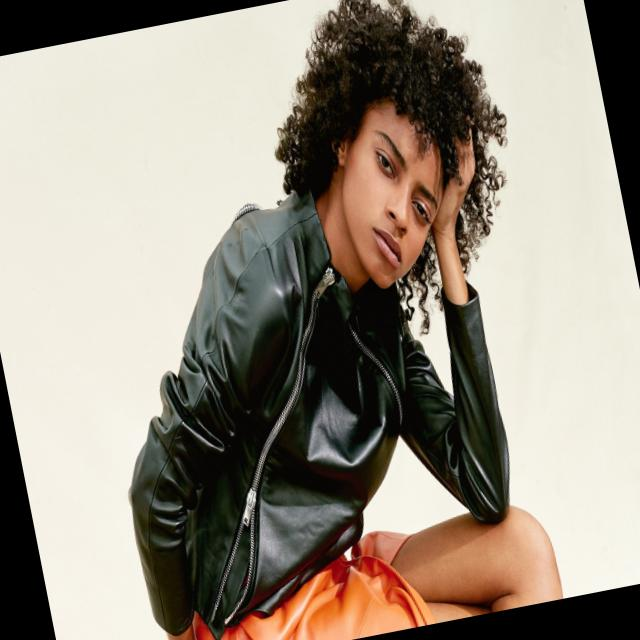Jacket: (42, 130, 574, 639)
